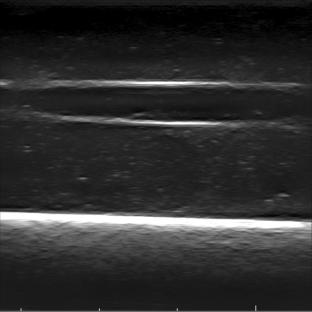vessel: (27, 80, 281, 128), (0, 80, 16, 118)
